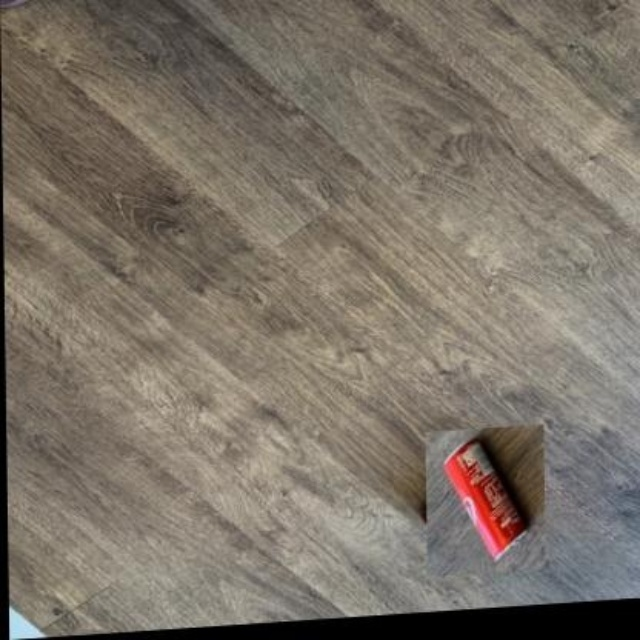trash: (443, 440, 525, 560)
